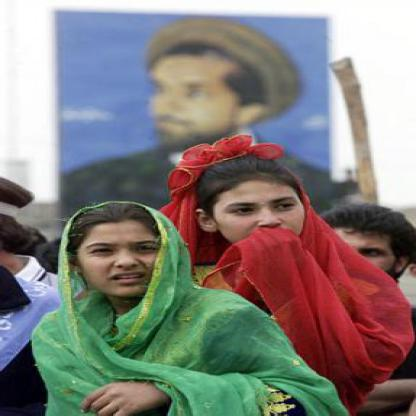face: (141, 31, 248, 153), (211, 162, 307, 257), (78, 205, 172, 299), (314, 210, 401, 297)
